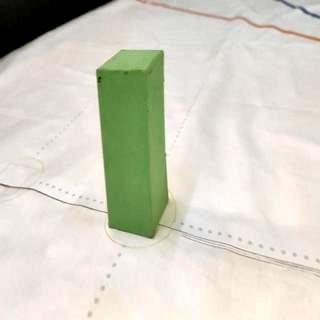greenbox: (97, 49, 169, 238)
